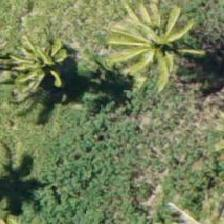coconut_tree: (6, 17, 96, 107), (110, 10, 200, 100)
